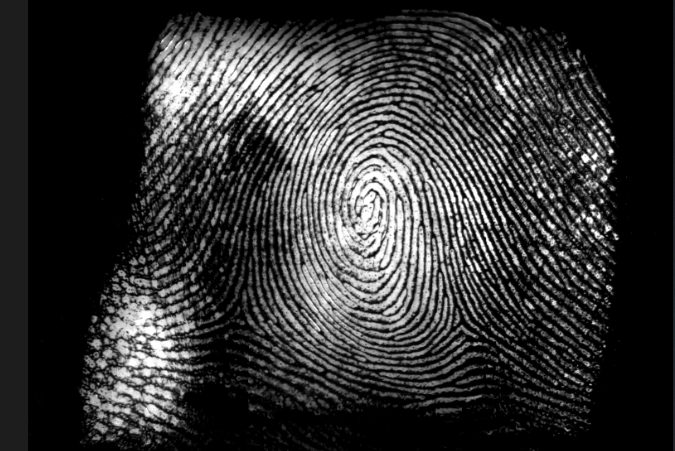deltas: (197, 288, 273, 350), (437, 301, 499, 363)
nucleo: (335, 166, 398, 243)
